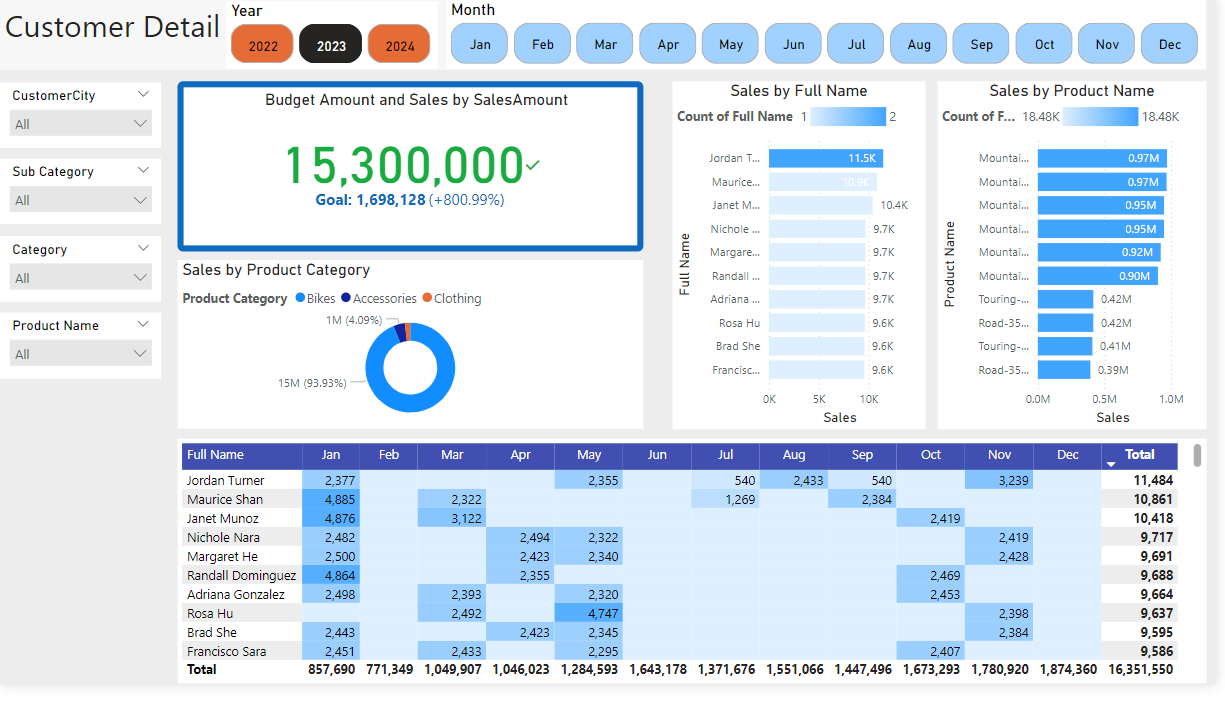

This screenshot's page, from the dashboard's own definition file:
{"tool":"powerbi","page":{"name":"Customer Detail","canvas":[1280,720],"ordinal":1},"visuals":[{"type":"textbox","box":[0,0,1269.5,73.7],"z":0},{"type":"slicer","fields":{"Values":["DIM_Custome.CustomerCity"]},"box":[0,86.8,170,68.5],"z":1000},{"type":"slicer","fields":{"Values":["DIM_Products.Sub Category"]},"box":[0,167.5,170,68.5],"z":2000},{"type":"slicer","fields":{"Values":["DIM_Products.Product Category"]},"box":[0,248.2,170,68.5],"z":3000},{"type":"slicer","fields":{"Values":["DIM_Products.Product Name"]},"box":[0,328.9,169.7,69.7],"z":4000},{"type":"advancedSlicerVisual","fields":{"Values":["DIM_Calender.Year"]},"box":[238.5,1.2,222.6,70.9],"z":5000},{"type":"advancedSlicerVisual","fields":{"Values":["DIM_Calender.MonthShort"]},"box":[469.5,0,800,72.6],"z":6000},{"type":"donutChart","fields":{"Category":["DIM_Products.Product Category"],"Y":["Key Measures.Sales"]},"box":[186.3,273.7,490.5,177.9],"z":7000},{"type":"barChart","fields":{"Category":["DIM_Custome.Full Name"],"Y":["Key Measures.Sales"]},"box":[708.4,85.3,266.3,366.3],"z":8000},{"type":"barChart","fields":{"Category":["DIM_Products.Product Name"],"Y":["Key Measures.Sales"]},"box":[986.3,85.3,283.2,366.3],"z":9000},{"type":"kpi","fields":{"TrendLine":["FACT_InternetSale.SalesAmount"],"Indicator":["Key Measures.Budget Amount"],"Goal":["Key Measures.Sales"]},"box":[186.3,85.3,490.5,178.9],"z":10000},{"type":"pivotTable","fields":{"Rows":["DIM_Custome.Full Name"],"Values":["Key Measures.Sales"],"Columns":["DIM_Calender.MonthShort"]},"box":[186.3,462.1,1083.2,257.9],"z":11000}]}

Visuals, with their boxes on the page's 1280x720 design canvas (x1, y1, x2, y2). These are canvas units, not pixel positions in the 1225x720 screenshot, which may show the page scaled, cropped or inside an application window:
textbox: pyautogui.locateOnScreen(0, 0, 1270, 74)
slicer - DIM_Custome.CustomerCity: pyautogui.locateOnScreen(0, 87, 170, 155)
slicer - DIM_Products.Sub Category: pyautogui.locateOnScreen(0, 168, 170, 236)
slicer - DIM_Products.Product Category: pyautogui.locateOnScreen(0, 248, 170, 317)
slicer - DIM_Products.Product Name: pyautogui.locateOnScreen(0, 329, 170, 399)
advancedSlicerVisual - DIM_Calender.Year: pyautogui.locateOnScreen(238, 1, 461, 72)
advancedSlicerVisual - DIM_Calender.MonthShort: pyautogui.locateOnScreen(470, 0, 1270, 73)
donutChart - DIM_Products.Product Category x Key Measures.Sales: pyautogui.locateOnScreen(186, 274, 677, 452)
barChart - DIM_Custome.Full Name x Key Measures.Sales: pyautogui.locateOnScreen(708, 85, 975, 452)
barChart - DIM_Products.Product Name x Key Measures.Sales: pyautogui.locateOnScreen(986, 85, 1270, 452)
kpi - FACT_InternetSale.SalesAmount x Key Measures.Budget Amount: pyautogui.locateOnScreen(186, 85, 677, 264)
pivotTable - DIM_Custome.Full Name x Key Measures.Sales: pyautogui.locateOnScreen(186, 462, 1270, 720)
